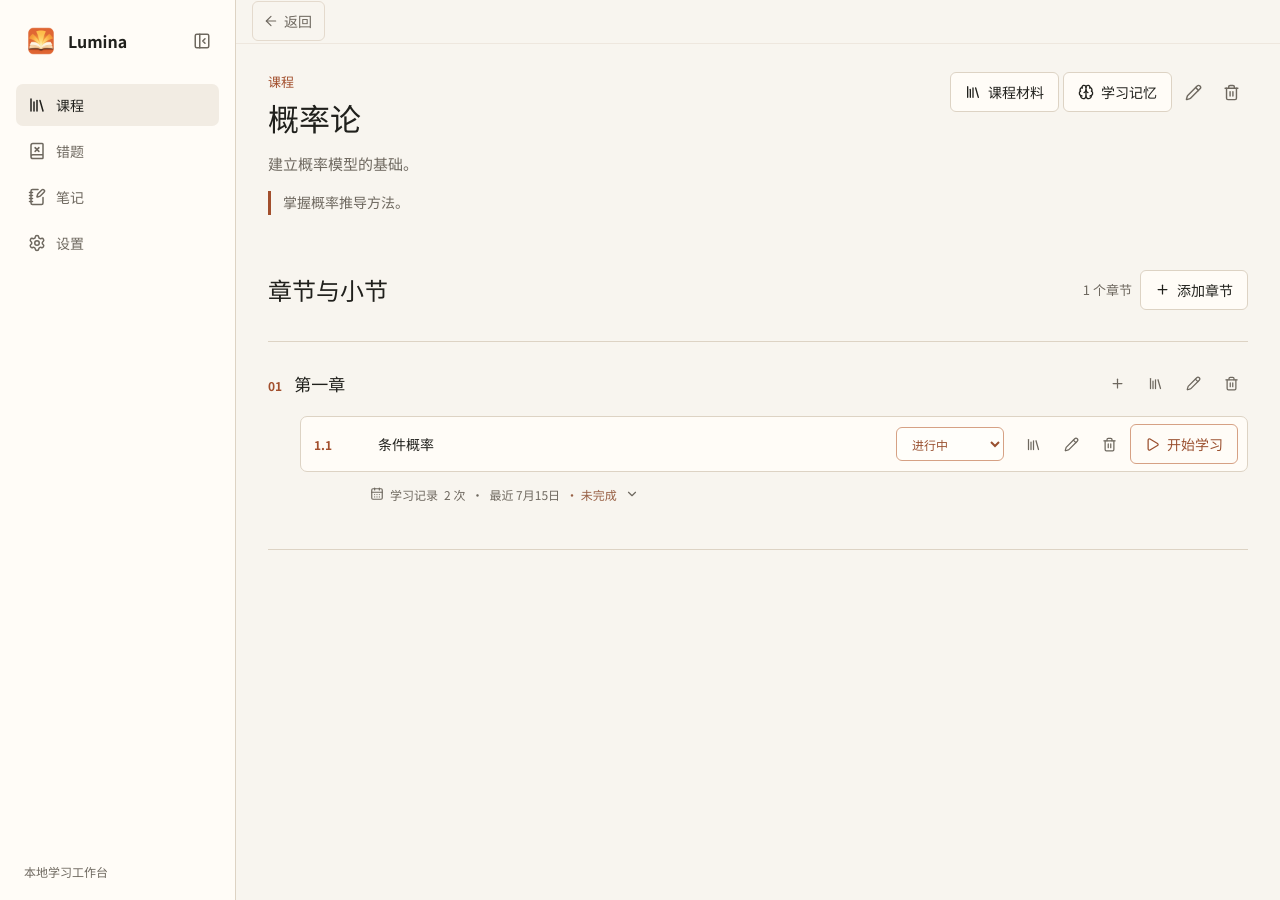
Test case: App › opens chapter materials in a fixed-scope dialog
Click the button named "第一章章节材料" at coordinates (1155, 383), box [1138, 366, 1172, 400]
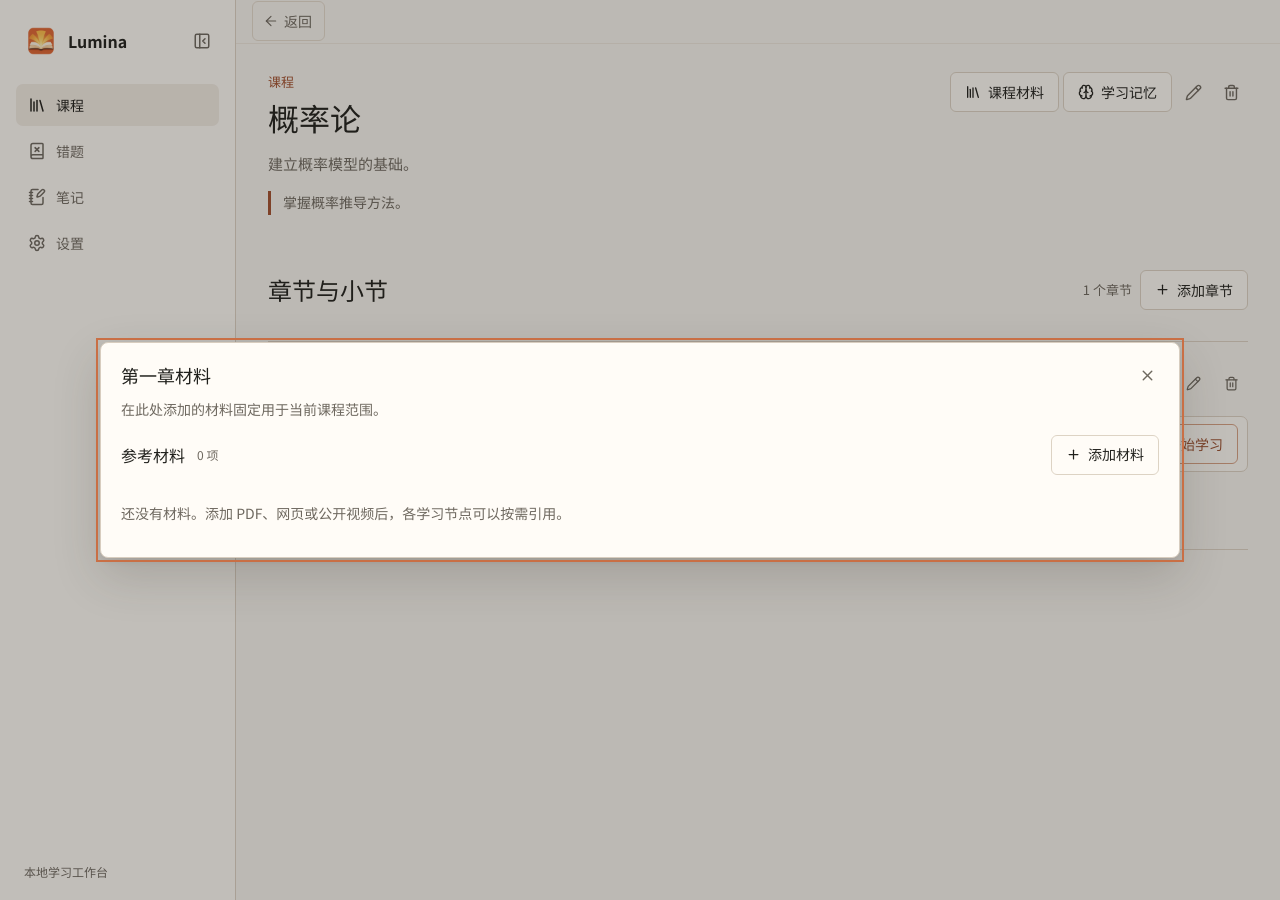
expect the text "在此处添加的材料固定用于当前课程范围。" is shown: met, box [121, 398, 387, 421]
expect the text "还没有材料。添加 PDF、网页或公开视频后，各学习节点可以按需引用。" is shown: met, box [121, 503, 570, 523]
